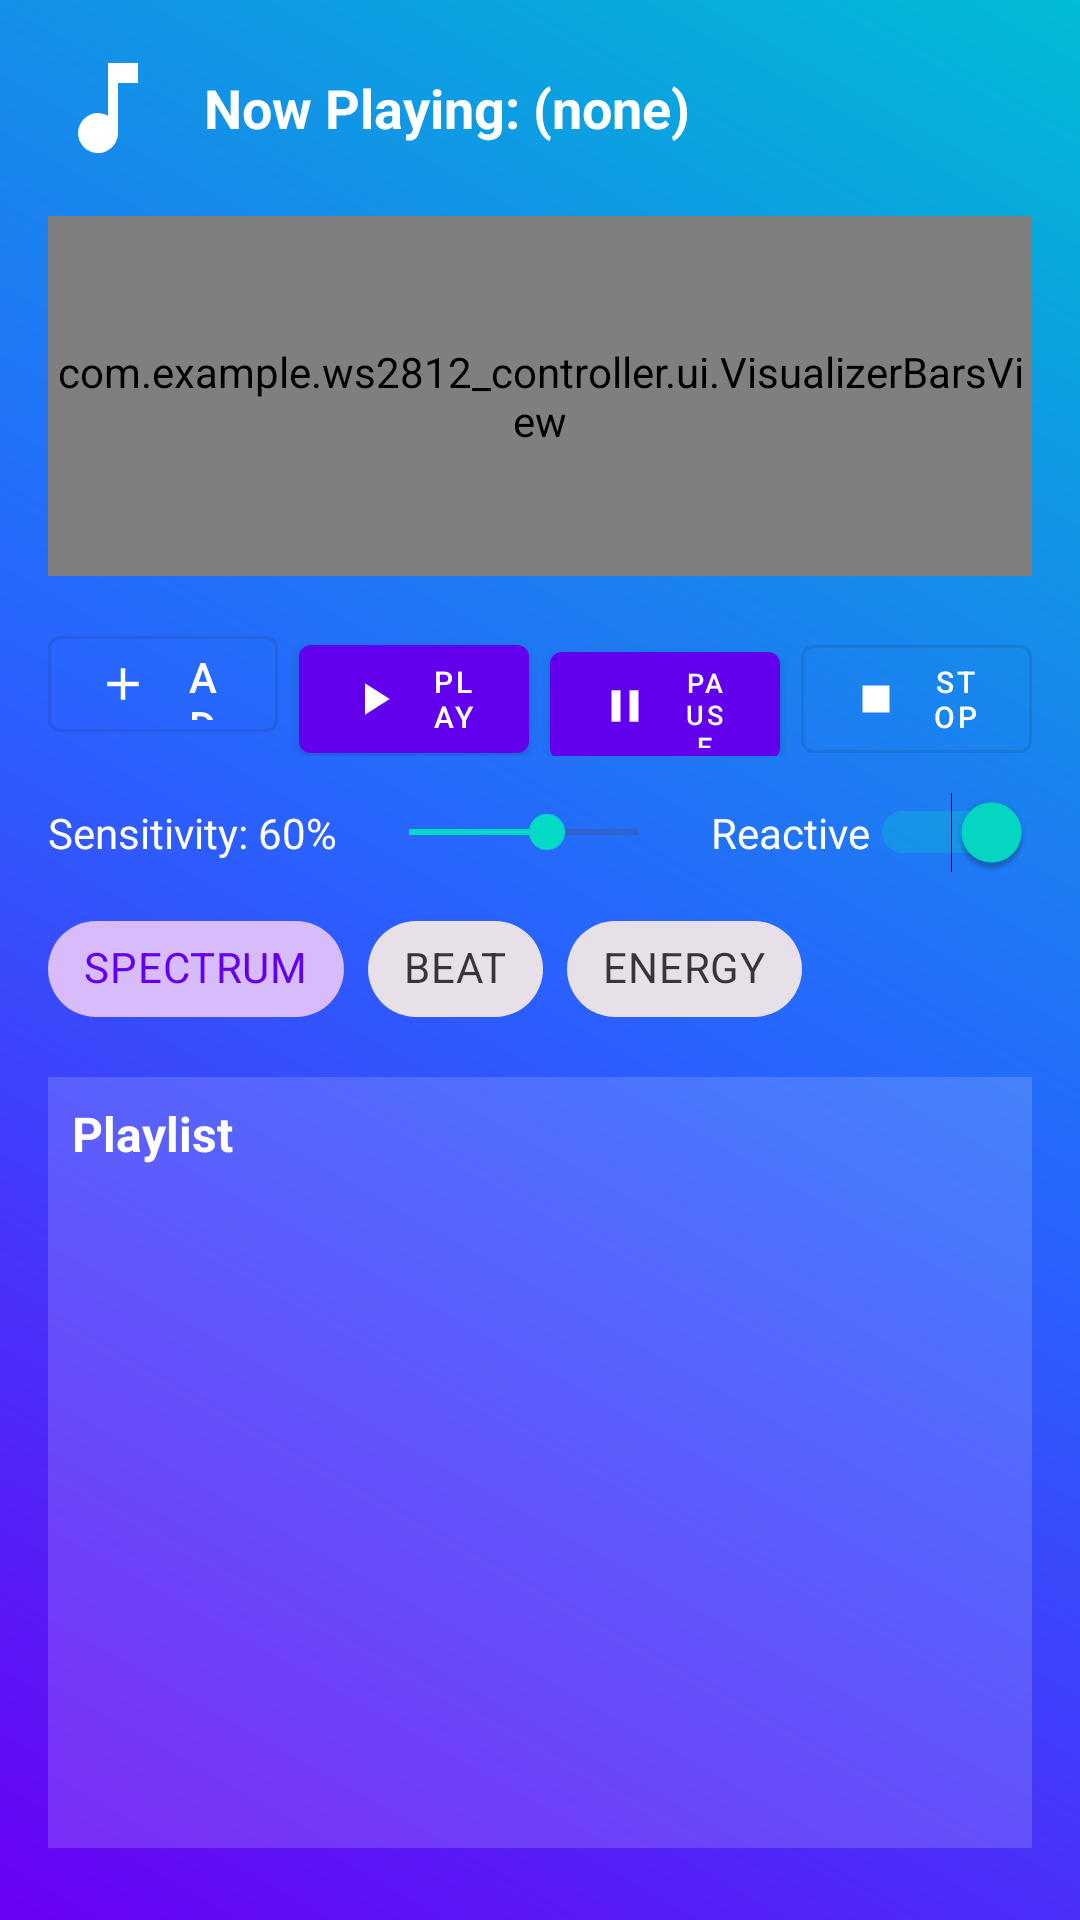

Screen size 1080 × 1920. Icon name, then its box in pixels as [x1,y1,x2,y2]:
music: [78,63,138,153]
